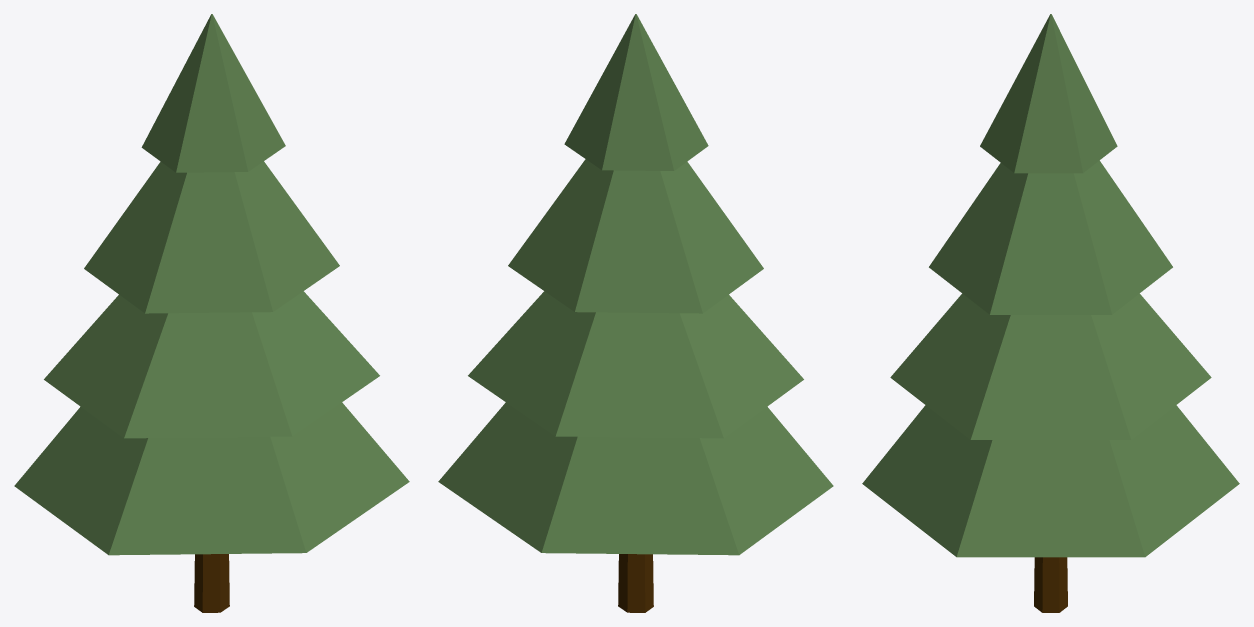
File: pine_v0.2.fbx
The picture shows the model from 3 angles, left to right: view 1: azimuth 30°, elevation 25°; view 2: azimuth 150°, elevation 25°; view 3: azimuth 270°, elevation 25°; orthographic projection.
Visible parts, largest first — view 1: Pine_Base_Mesh; view 2: Pine_Base_Mesh; view 3: Pine_Base_Mesh.
Boxes of the visible parts, <box> form: Pine_Base_Mesh: <box>14,14,409,612</box>; Pine_Base_Mesh: <box>438,14,833,612</box>; Pine_Base_Mesh: <box>862,14,1239,612</box>.
Size of the model in its own units: 1.5 by 2.6 by 1.38.
